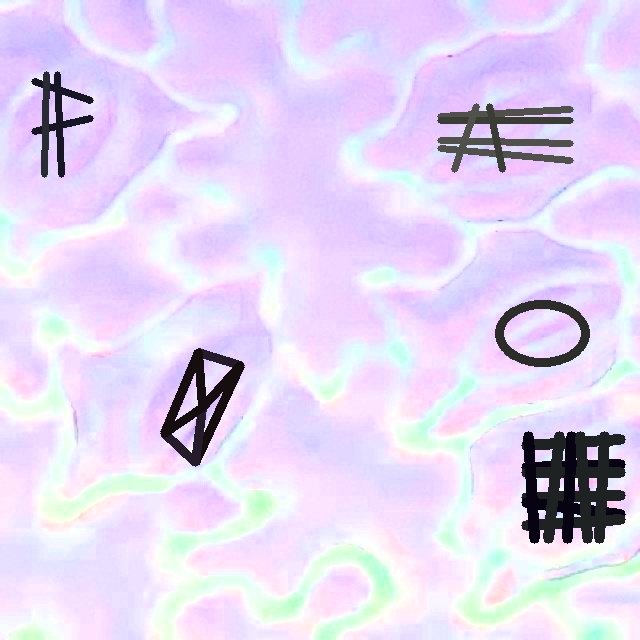open: (522, 431, 624, 542), (161, 348, 244, 466), (437, 103, 573, 172), (494, 298, 590, 367), (32, 72, 93, 177)
